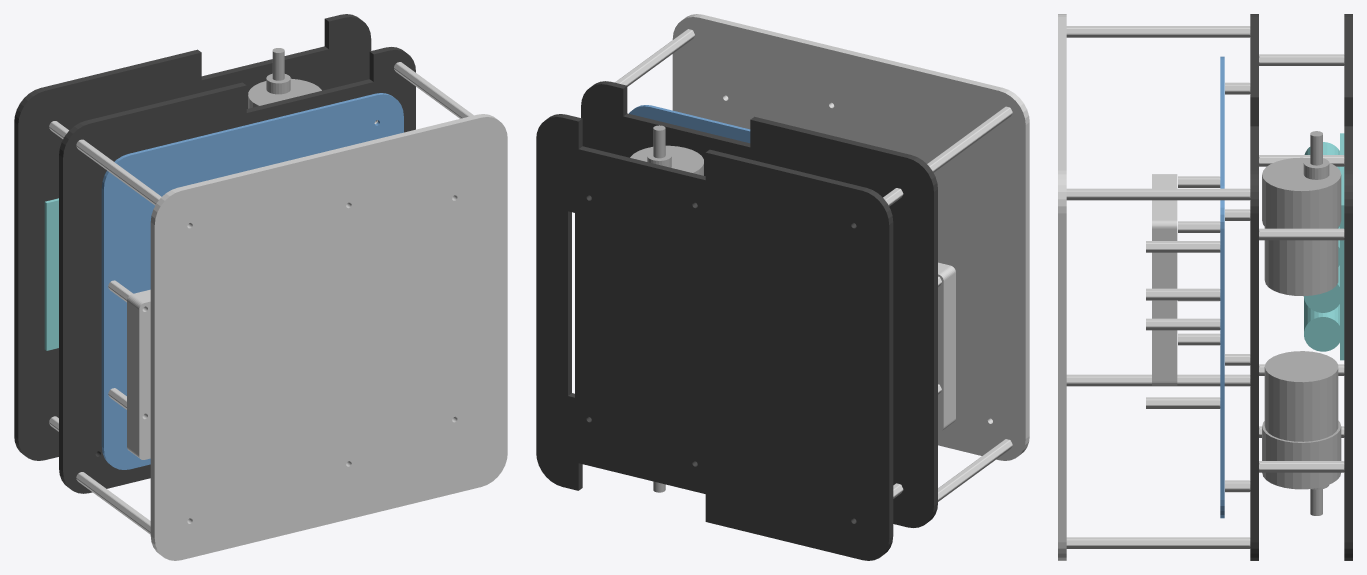
File: base_link_top_plate.dae
The picture shows the model from 3 angles, left to right: view 1: azimuth 30°, elevation 25°; view 2: azimuth 150°, elevation 25°; view 3: azimuth 270°, elevation 25°; orthographic projection. The views are drawn at different scales.
Parts seen in each view (by area): view 1: node; view 2: node; view 3: node.
Part boxes in pixels (x1,y1,x2,y2): node: (14,14,507,560); node: (536,14,1029,560); node: (1058,14,1352,560).
Size of the model in its own units: 200 by 200 by 138.
